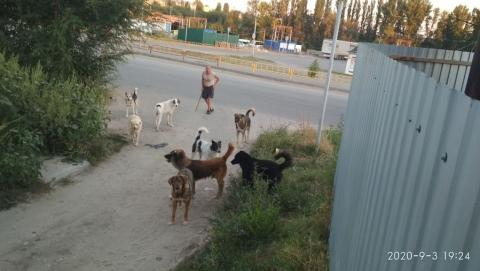dog_aggressive: (168, 167, 194, 227)
normal_dogs: (164, 143, 234, 200), (232, 149, 294, 194), (192, 127, 223, 162), (155, 97, 181, 134), (234, 108, 254, 144), (128, 114, 143, 148), (124, 87, 140, 117)
